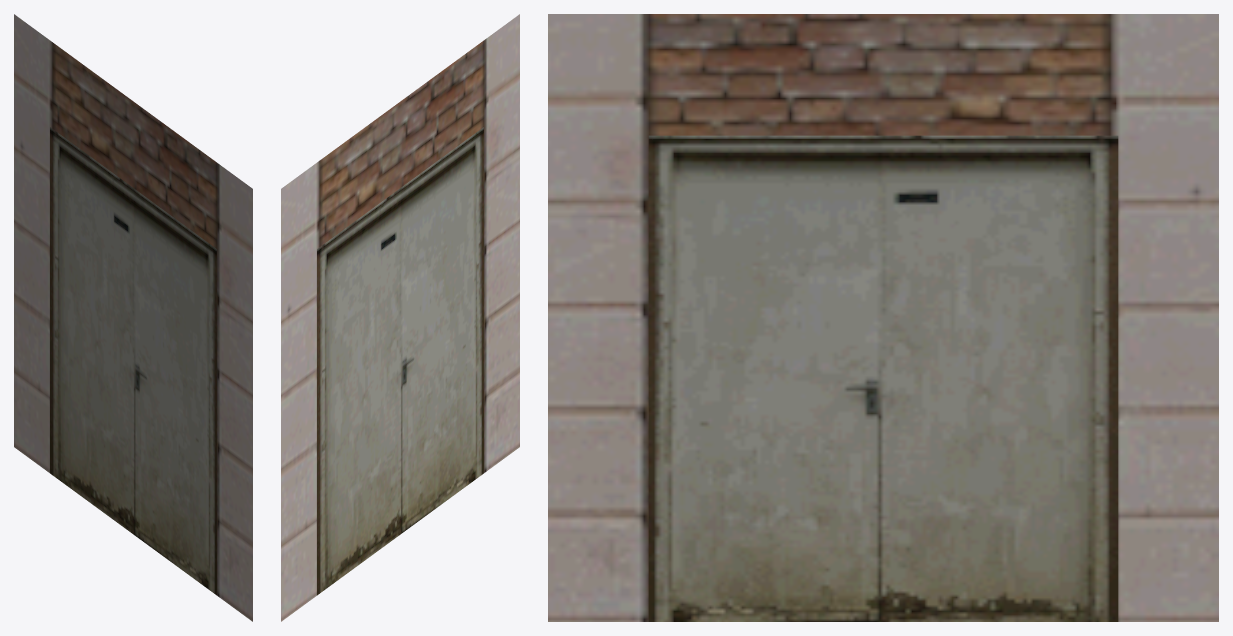
Rendered from Urban_FancyBrickWallOldDoor_Model.fbx.
The picture shows the model from 3 angles, left to right: view 1: azimuth 30°, elevation 25°; view 2: azimuth 150°, elevation 25°; view 3: azimuth 270°, elevation 25°; orthographic projection. The views are drawn at different scales.
Parts seen in each view (by area): view 1: Urban_FancyBrickWallOldDoor_Mesh; view 2: Urban_FancyBrickWallOldDoor_Mesh; view 3: Urban_FancyBrickWallOldDoor_Mesh.
Part boxes in pixels (x1,y1,x2,y2): Urban_FancyBrickWallOldDoor_Mesh: [14, 14, 252, 621]; Urban_FancyBrickWallOldDoor_Mesh: [281, 14, 519, 621]; Urban_FancyBrickWallOldDoor_Mesh: [548, 14, 1218, 621].
Size of the model in its own units: 0 by 2.1 by 2.1.
